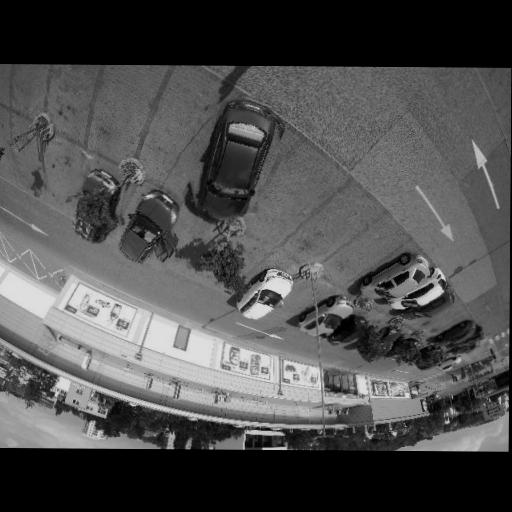busy: (178, 95, 290, 223), (113, 184, 179, 269), (73, 164, 121, 247), (356, 253, 432, 303), (233, 269, 296, 321), (385, 278, 449, 313), (298, 296, 353, 334), (358, 325, 407, 364), (324, 316, 369, 345), (431, 320, 479, 347), (405, 347, 442, 370), (442, 340, 479, 358)
free: (149, 107, 211, 162), (95, 82, 150, 136), (256, 182, 317, 225), (40, 147, 85, 192), (302, 214, 353, 249), (48, 71, 95, 108), (8, 134, 46, 174), (9, 71, 48, 103), (337, 244, 379, 271), (229, 239, 269, 267), (281, 288, 320, 315), (175, 218, 210, 243), (489, 158, 510, 185), (425, 314, 452, 330)
